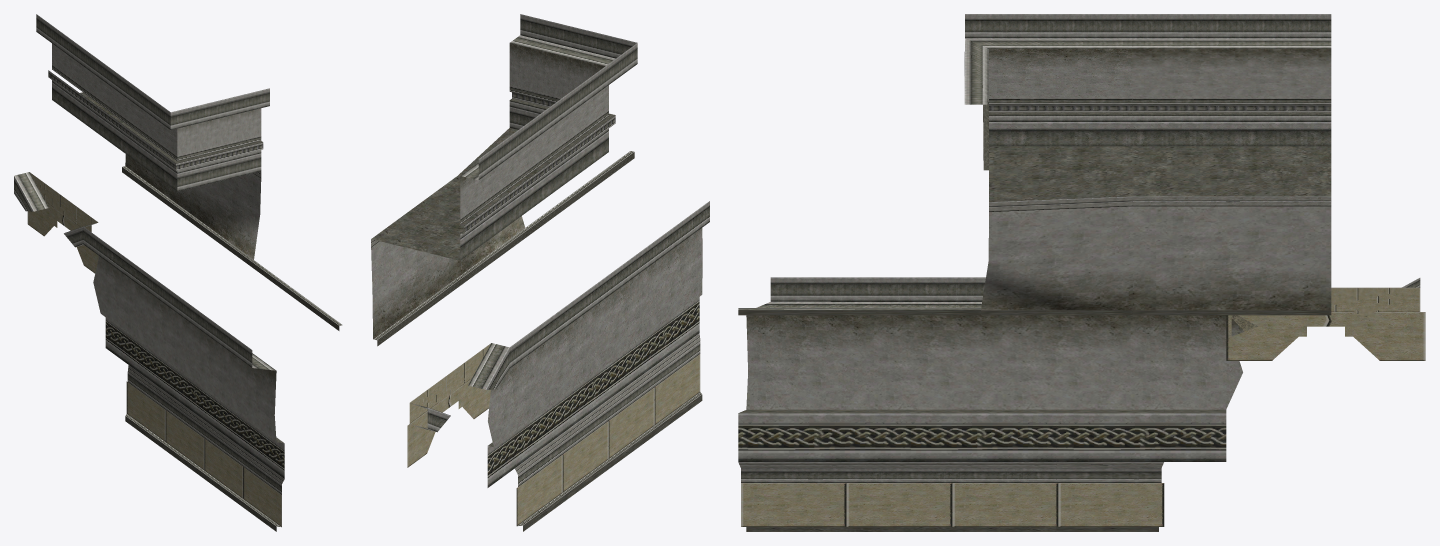
The model's file is DWARF_PALACE_FORGE_WALL01B.fbx.
3 views of the same model, side by side, from view 1: azimuth 30°, elevation 25°; view 2: azimuth 150°, elevation 25°; view 3: azimuth 270°, elevation 25° (orthographic). The views are drawn at different scales.
Parts seen in each view (by area): view 1: DWARF_PALACE_FORGE_WALL01B; view 2: DWARF_PALACE_FORGE_WALL01B; view 3: DWARF_PALACE_FORGE_WALL01B.
Boxes of the visible parts, x1,y1,x2,y2 form: DWARF_PALACE_FORGE_WALL01B: [14, 14, 342, 531]; DWARF_PALACE_FORGE_WALL01B: [371, 14, 709, 531]; DWARF_PALACE_FORGE_WALL01B: [738, 14, 1425, 531].
Bounding box in the file's own units: 58001 × 205000 × 255004.
7 materials, 7 textured.
